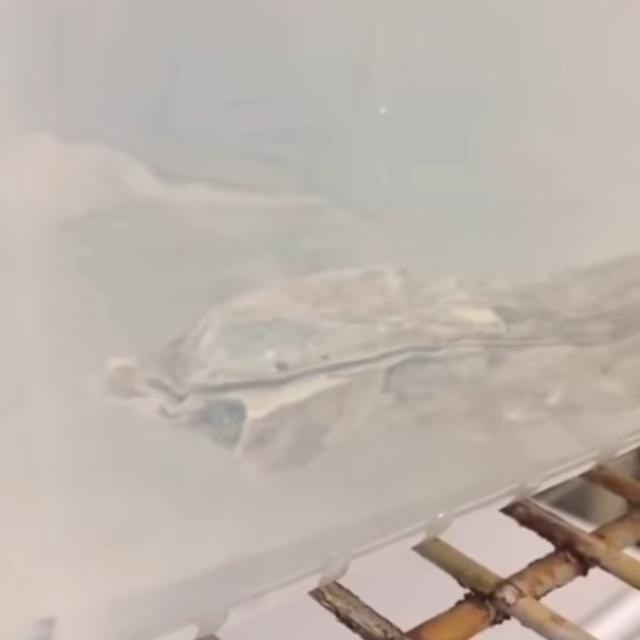Oyster-Closed: (95, 253, 640, 474)
Oyster-Indeterminate: (30, 116, 336, 242)
